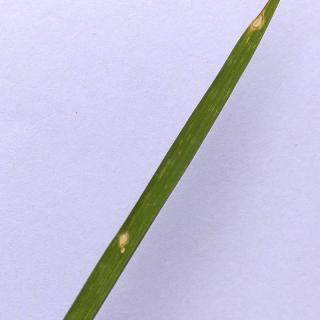Blast: (111, 225, 142, 266), (244, 5, 272, 42)
